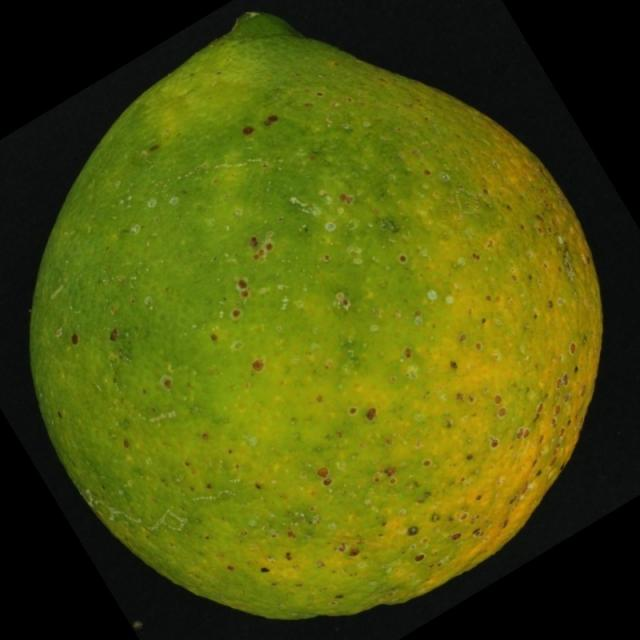grenning: (26, 8, 615, 631)
